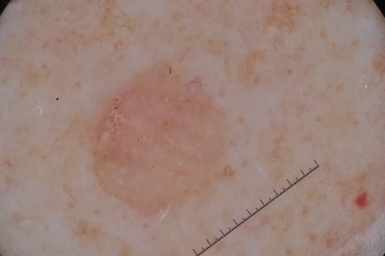seborrheic keratosis: (76, 59, 236, 217)
